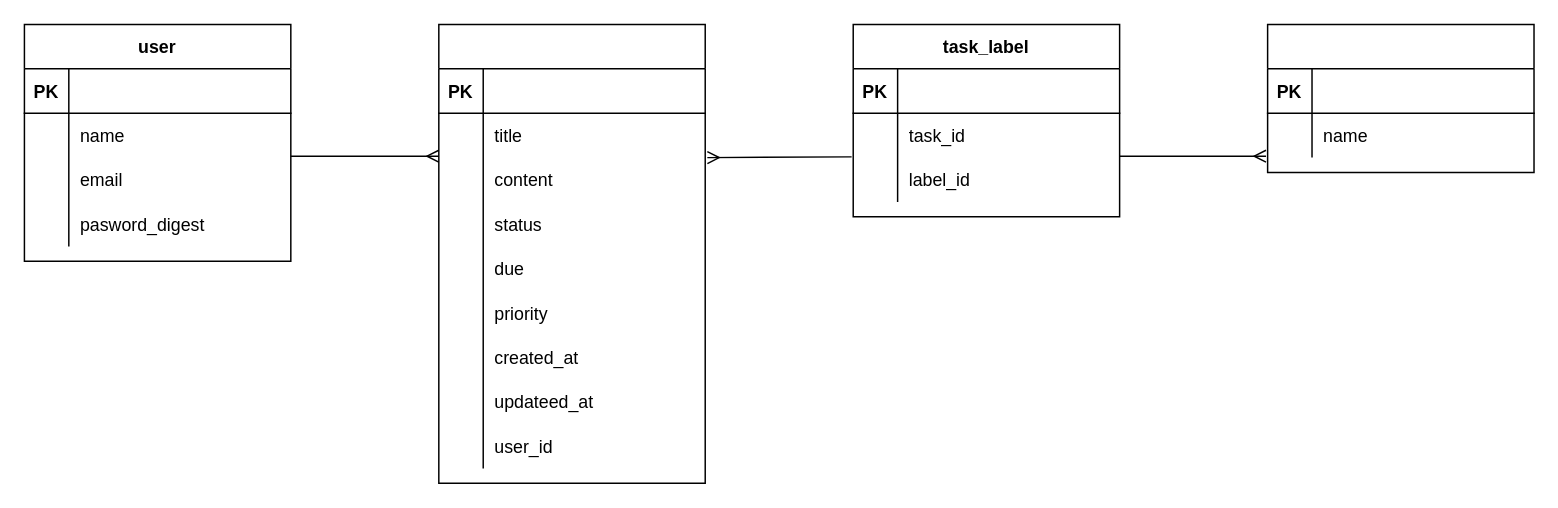
Some shapes in this 1558 by 508 pixel diagram are drawn without their labels. The box of each missing label's shape, as (x1, y1, x2, y2) in pixels:
label: (1266, 23, 1534, 172)
task: (437, 23, 705, 483)
